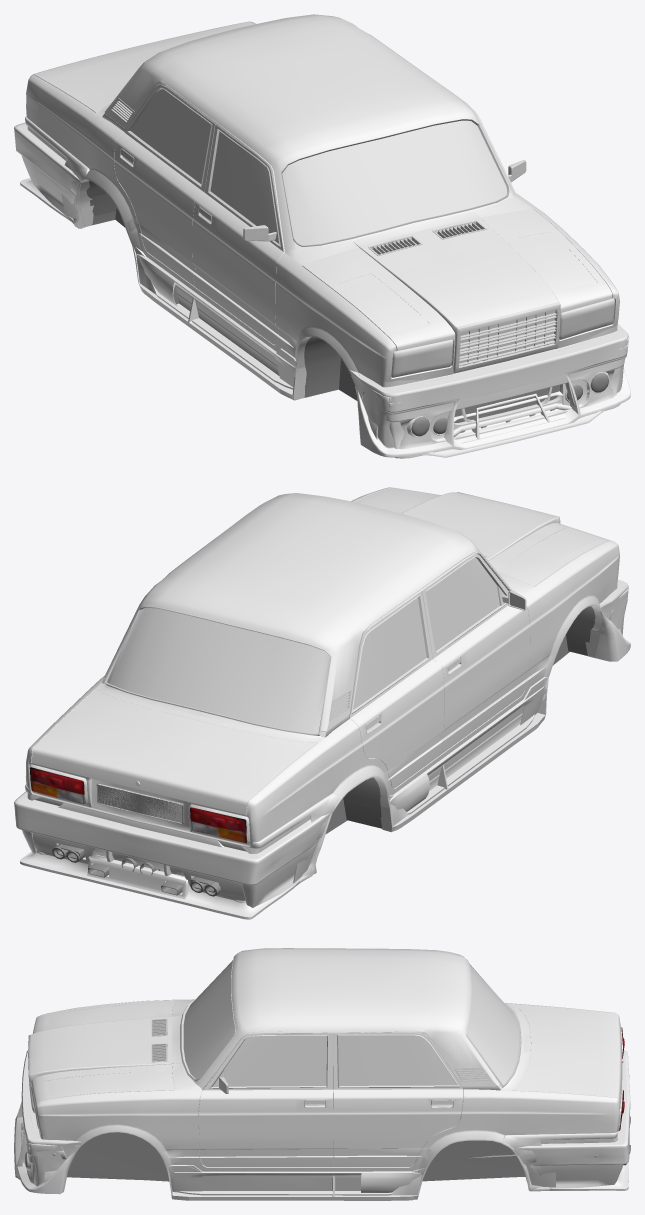
File: Semerka.fbx
3 renders of one model, top to bottom at view 1: azimuth 30°, elevation 25°; view 2: azimuth 150°, elevation 25°; view 3: azimuth 270°, elevation 25°, orthographic. The views are drawn at different scales.
Parts seen in each view (by area): view 1: kit02_body, kit03_body, window, kit01_body, kit04_body, static_objects, lights_glass, kit02_objects, kit04_objects, kit01_objects; view 2: kit02_body, kit03_body, window, kit01_body, kit04_body, static_objects, kit01_objects, stop signal, kit03_objects, standart_objects, kit02_objects, kit04_objects; view 3: kit01_body, kit02_body, window, kit03_body, kit01_objects, static_objects, kit04_body, interior.
Boxes of the visible parts, x1,y1,x2,y2 form: kit02_body: (14, 22, 624, 457); kit03_body: (21, 28, 630, 457); window: (130, 89, 506, 245); kit01_body: (33, 14, 629, 458); kit04_body: (25, 84, 617, 440); static_objects: (102, 65, 560, 373); lights_glass: (391, 298, 614, 377); kit02_objects: (86, 180, 582, 434); kit04_objects: (115, 219, 559, 422); kit01_objects: (91, 211, 608, 436); kit02_body: (14, 487, 621, 919); kit03_body: (22, 529, 630, 907); window: (107, 557, 499, 733); kit01_body: (25, 490, 628, 901); kit04_body: (25, 553, 619, 902); static_objects: (101, 492, 560, 785); kit01_objects: (56, 606, 594, 892); stop signal: (29, 767, 247, 843); kit03_objects: (52, 632, 590, 896); standart_objects: (98, 610, 612, 823); kit02_objects: (88, 635, 569, 895); kit04_objects: (98, 606, 595, 875); kit01_body: (21, 976, 622, 1200); kit02_body: (14, 948, 630, 1192); window: (183, 960, 518, 1086); kit03_body: (15, 950, 623, 1195); kit01_objects: (25, 1132, 525, 1180); static_objects: (28, 957, 623, 1112); kit04_body: (30, 1014, 617, 1195); interior: (203, 1031, 521, 1089).
Size of the model in its own units: 1.81 by 1.33 by 4.29.
5 materials, 2 textured.
